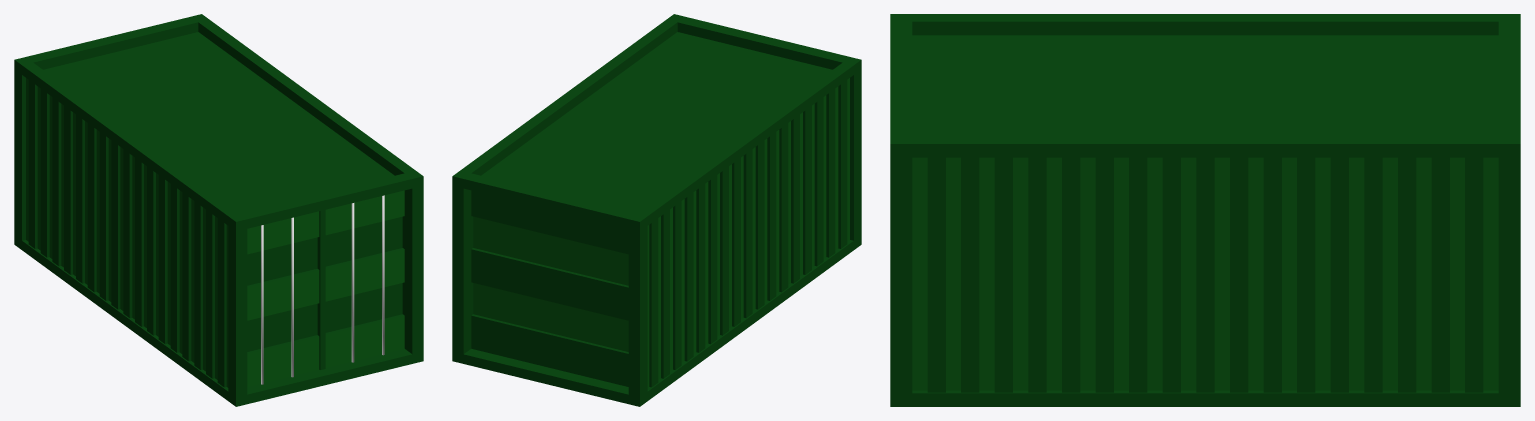
File: container1.dae
The picture shows the model from 3 angles, left to right: view 1: azimuth 30°, elevation 25°; view 2: azimuth 150°, elevation 25°; view 3: azimuth 270°, elevation 25°; orthographic projection. The views are drawn at different scales.
Visible parts, largest first — view 1: container; view 2: container; view 3: container.
Boxes of the visible parts, <box> form: container: <box>14,14,423,406</box>; container: <box>452,14,861,406</box>; container: <box>890,14,1520,406</box>.
Size of the model in its own units: 2.48 by 5.08 by 2.34.
